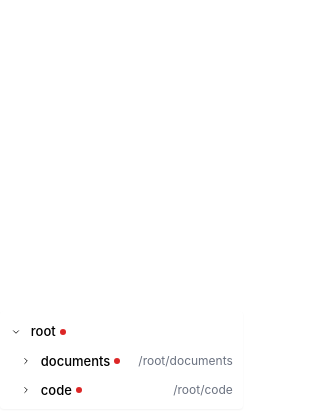
FolderBrowser › Context Menu › shows folder context menu on right-click
Right-click the text "documents" at [81, 361], box [41, 352, 120, 369]
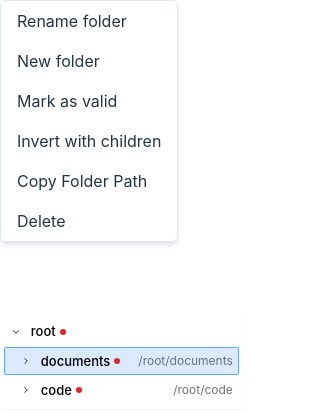
Result: the text "Rename folder" is shown at [17, 11, 127, 31]
Result: the text "New folder" is shown at [17, 51, 100, 71]
Result: the text "Copy Folder Path" is shown at [17, 171, 147, 191]
